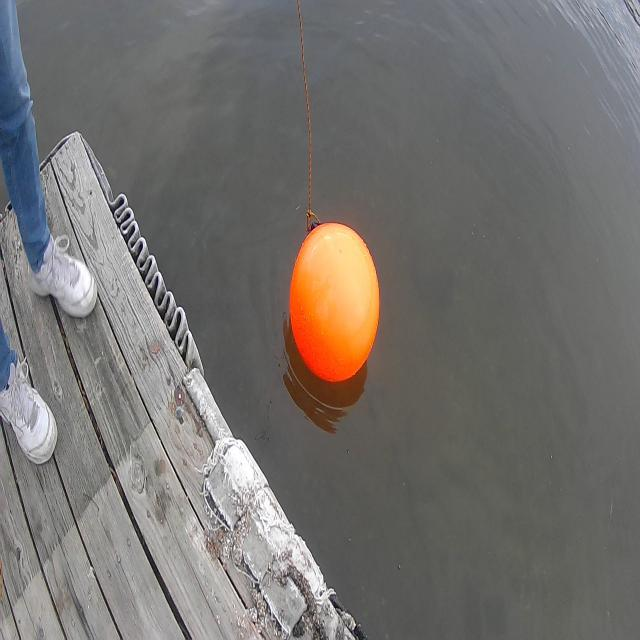Buoy: (284, 211, 386, 389)
